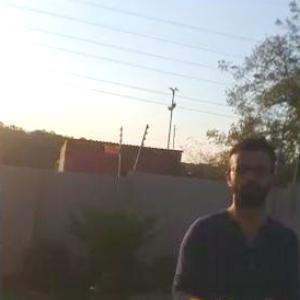follow: (164, 132, 299, 299)
